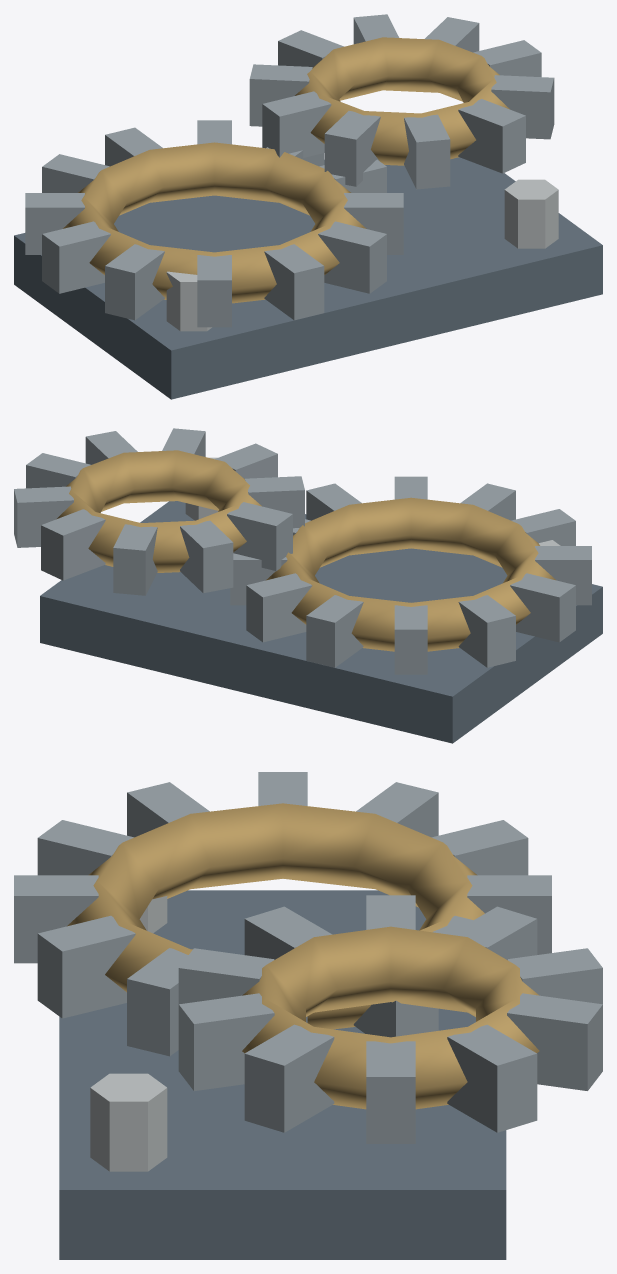
3 views of the same model, one above another, from view 1: azimuth 30°, elevation 25°; view 2: azimuth 150°, elevation 25°; view 3: azimuth 270°, elevation 25° (orthographic). The views are drawn at different scales.
Visible parts, largest first — view 1: Part_Component; view 2: Part_Component; view 3: Part_Component.
Boxes of the visible parts, x1,y1,x2,y2 form: Part_Component: (14,14,602,399); Part_Component: (14,428,602,743); Part_Component: (14,772,602,1259).
Size of the model in its own units: 55.4 by 15.7 by 38.21.
